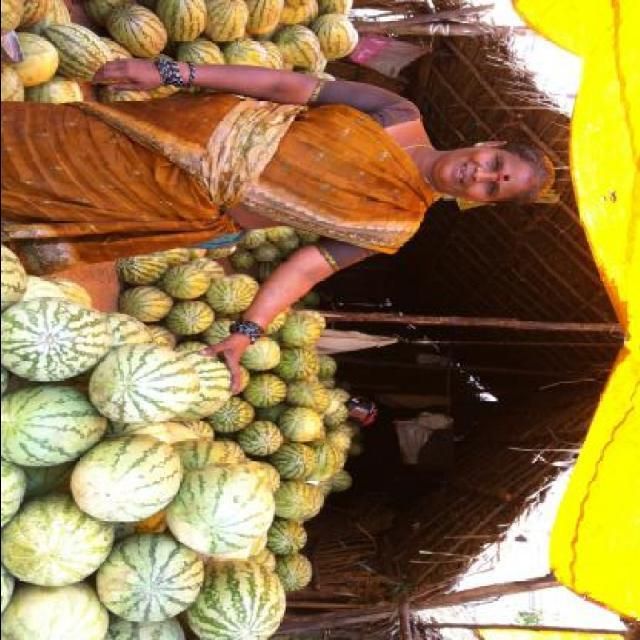Watermelon: (0, 0, 362, 640)
